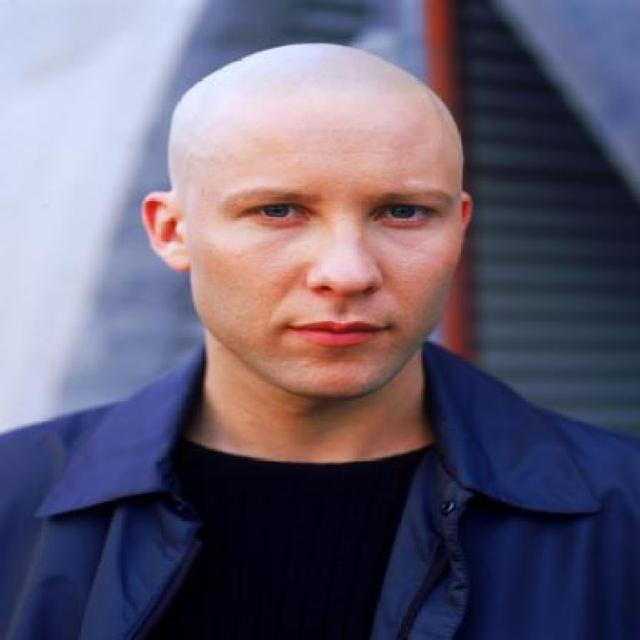no_helmet: (130, 32, 484, 219)
